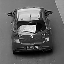motor: (11, 6, 52, 56)
